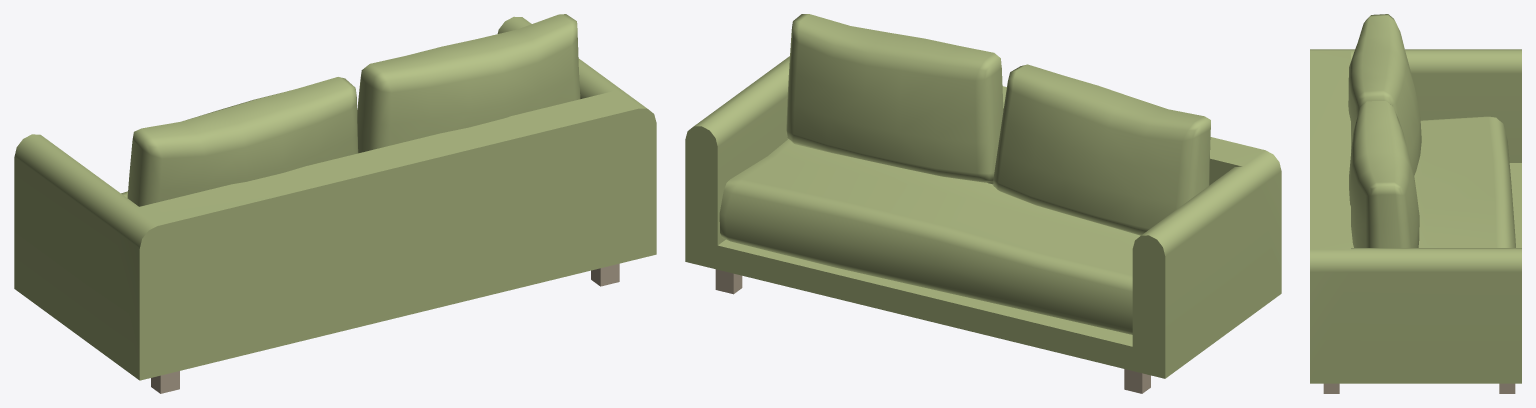
The model's file is sofa.fbx.
3 views of the same model, side by side, from view 1: azimuth 30°, elevation 25°; view 2: azimuth 150°, elevation 25°; view 3: azimuth 270°, elevation 25° (orthographic). The views are drawn at different scales.
Visible parts, largest first — view 1: sofa; view 2: sofa; view 3: sofa.
Part boxes in pixels (box(x1,y1,x2,y2)): sofa: box(14, 14, 656, 393); sofa: box(685, 14, 1281, 393); sofa: box(1310, 14, 1521, 393).
Bounding box in the file's own units: 242 × 109 × 102.
